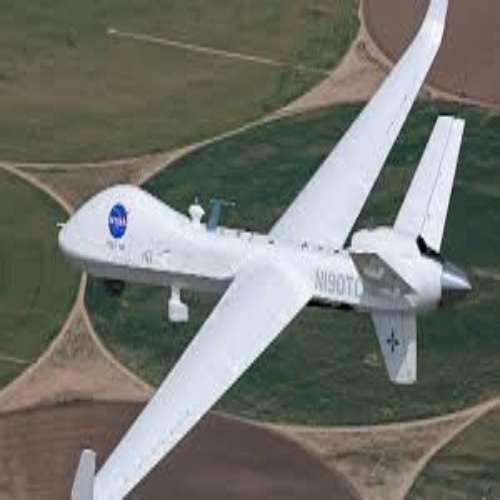uav: (52, 4, 474, 500)
